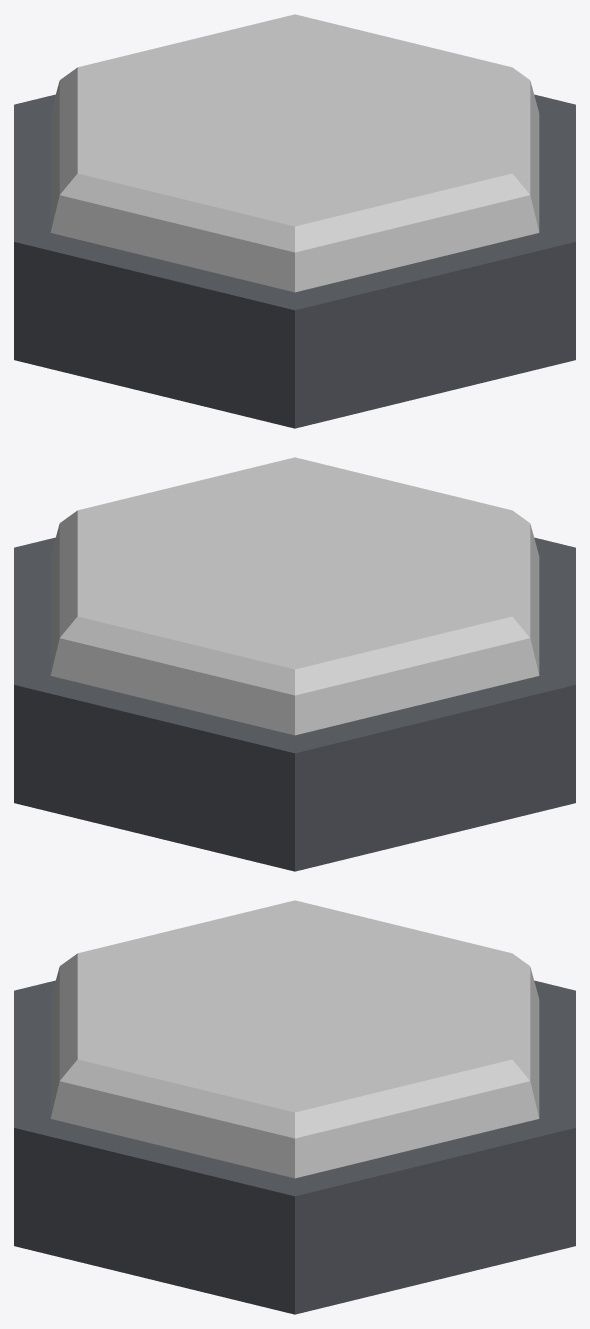
Rendered from SM_UI_Level_01.fbx.
3 views of the same model, one above another, from view 1: azimuth 30°, elevation 25°; view 2: azimuth 150°, elevation 25°; view 3: azimuth 270°, elevation 25° (orthographic).
Visible parts, largest first — view 1: SM_UI_Level_01; view 2: SM_UI_Level_01; view 3: SM_UI_Level_01.
Part boxes in pixels (box(x1,y1,x2,y2)): SM_UI_Level_01: box(14, 14, 575, 428); SM_UI_Level_01: box(14, 457, 575, 871); SM_UI_Level_01: box(14, 900, 575, 1314).
Bounding box in the file's own units: 408 × 119 × 354.
Materials: 1 (1 with a texture image).
